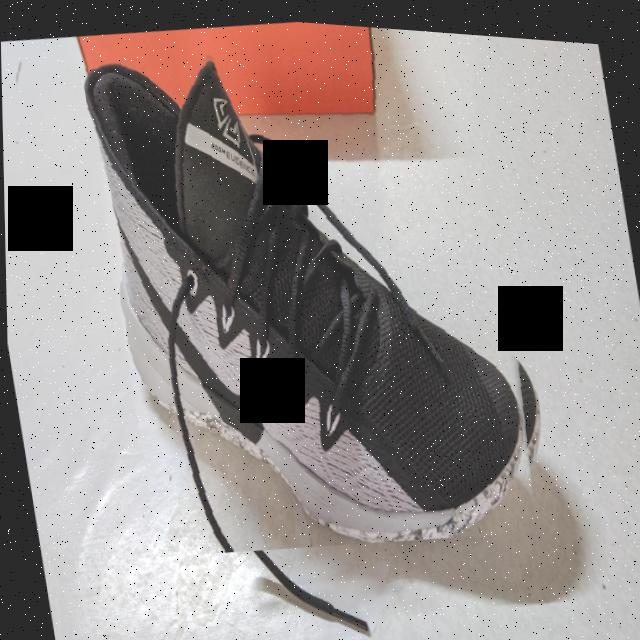shoe: (78, 5, 561, 578)
